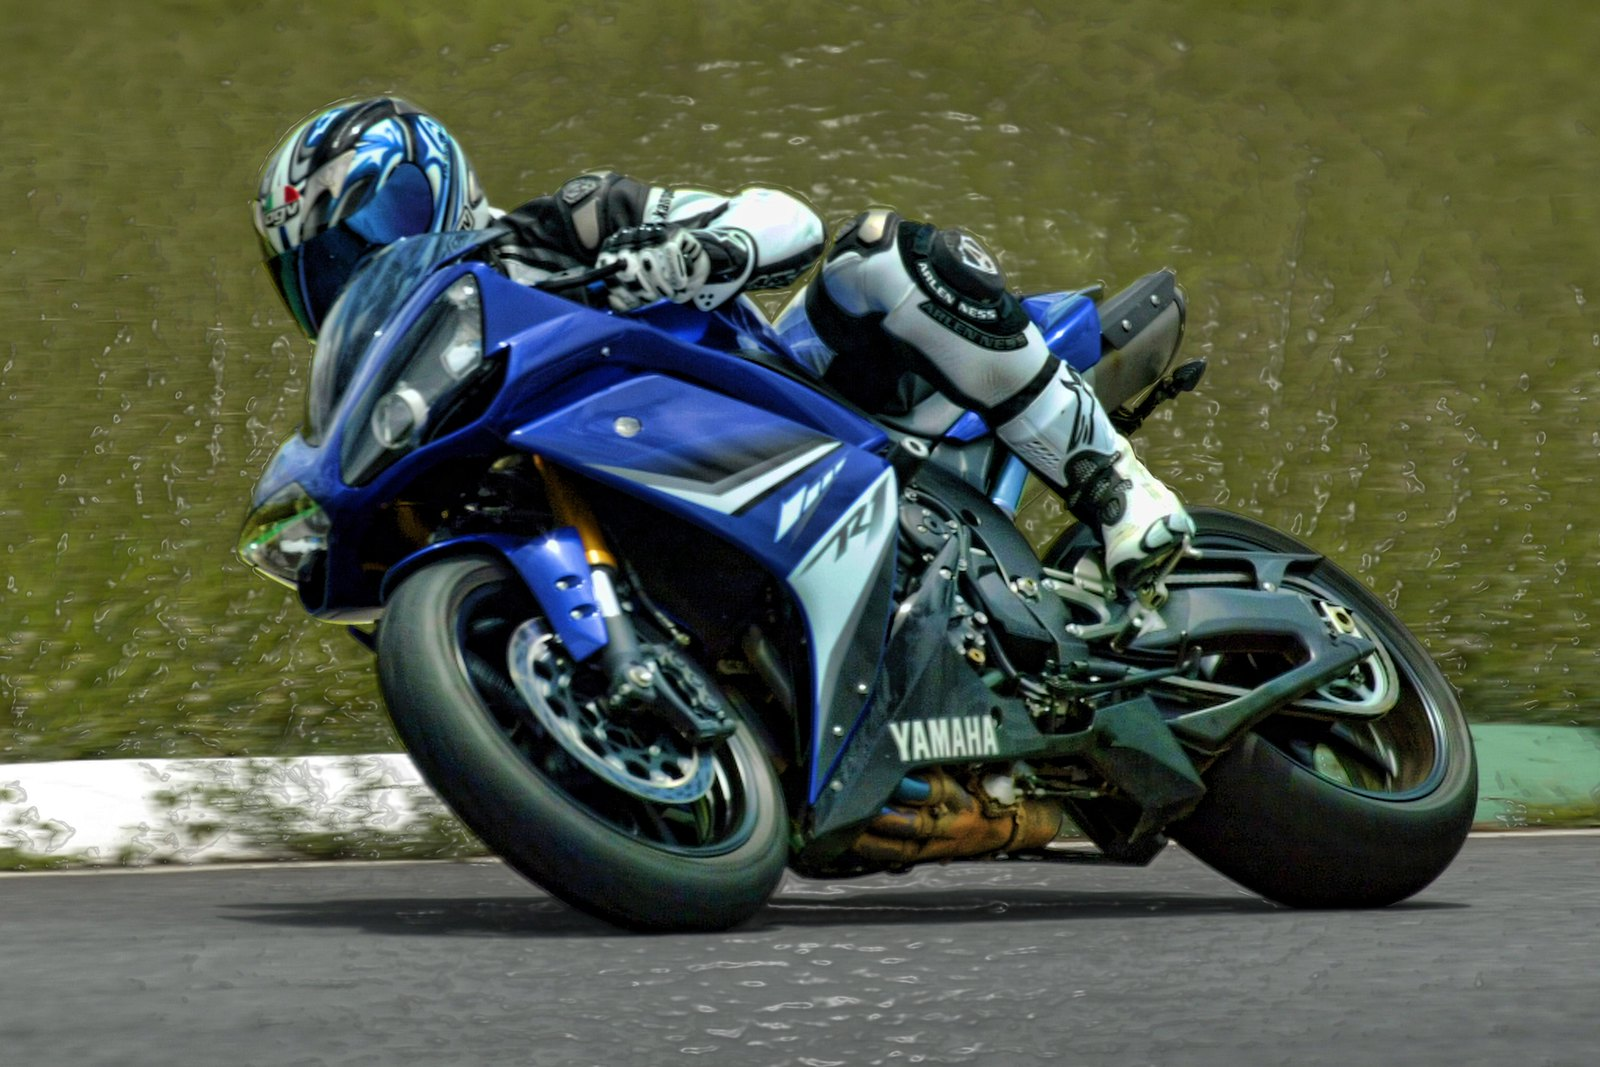motor bike: (264, 247, 1494, 926)
